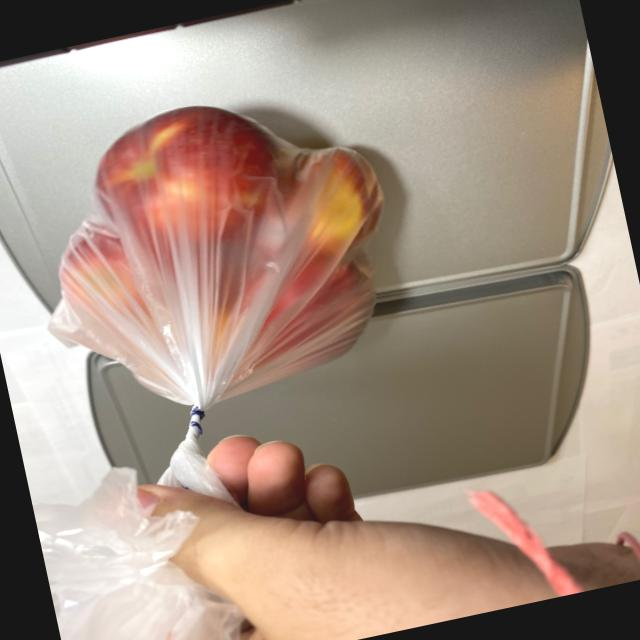apple: (23, 66, 421, 421)
